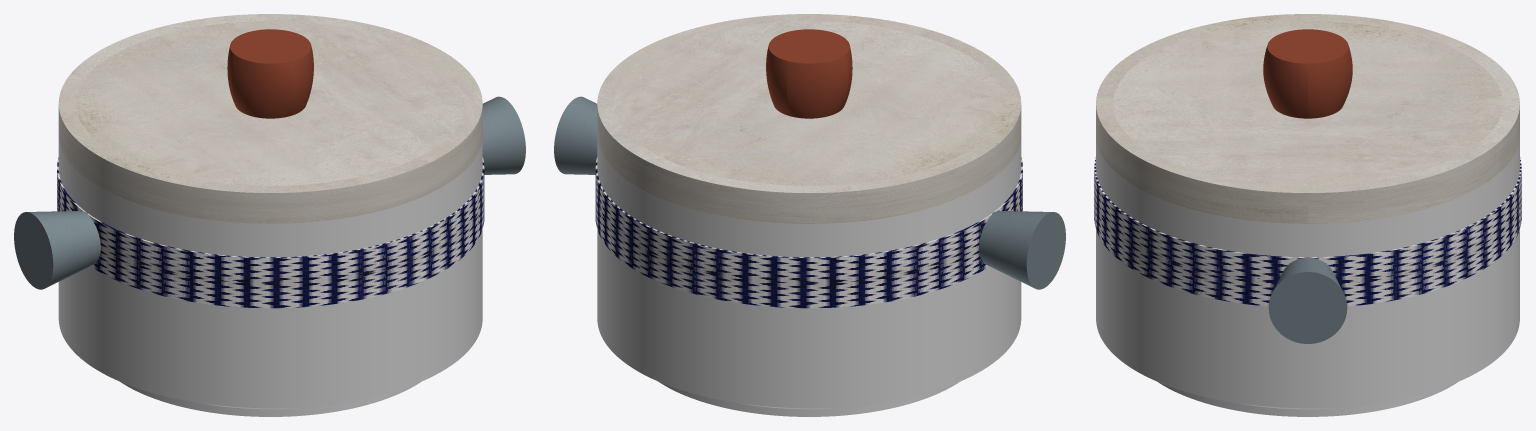
File: Pignata.fbx
3 views of the same model, side by side, from view 1: azimuth 30°, elevation 25°; view 2: azimuth 150°, elevation 25°; view 3: azimuth 270°, elevation 25° (orthographic).
Parts seen in each view (by area): view 1: Oggetto_5, Oggetto_24, Oggetto_3, Oggetto_21, Oggetto_23, Oggetto_28, Oggetto_8, Oggetto_7, Oggetto_10, Oggetto_26, Oggetto_19, Oggetto_27 (+1 smaller); view 2: Oggetto_5, Oggetto_24, Oggetto_3, Oggetto_21, Oggetto_23, Oggetto_30, Oggetto_8, Oggetto_7, Oggetto_10, Oggetto_26, Oggetto_19, Oggetto_29 (+1 smaller); view 3: Oggetto_5, Oggetto_24, Oggetto_3, Oggetto_21, Oggetto_23, Oggetto_9, Oggetto_27, Oggetto_29, Oggetto_26, Oggetto_19, Oggetto_4, Oggetto_7.
Boxes of the visible parts, left/top/right/bottom form: Oggetto_5: left=58, top=136, right=482, bottom=408; Oggetto_24: left=75, top=21, right=465, bottom=185; Oggetto_3: left=57, top=171, right=484, bottom=308; Oggetto_21: left=58, top=14, right=482, bottom=223; Oggetto_23: left=58, top=14, right=482, bottom=192; Oggetto_28: left=232, top=55, right=292, bottom=118; Oggetto_8: left=28, top=210, right=100, bottom=288; Oggetto_7: left=482, top=96, right=525, bottom=174; Oggetto_10: left=14, top=212, right=53, bottom=289; Oggetto_26: left=230, top=29, right=311, bottom=63; Oggetto_19: left=121, top=382, right=420, bottom=416; Oggetto_27: left=288, top=46, right=313, bottom=116; Oggetto_5: left=597, top=136, right=1021, bottom=408; Oggetto_24: left=614, top=21, right=1004, bottom=185; Oggetto_3: left=595, top=171, right=1022, bottom=308; Oggetto_21: left=597, top=14, right=1021, bottom=223; Oggetto_23: left=597, top=14, right=1021, bottom=192; Oggetto_30: left=787, top=55, right=847, bottom=118; Oggetto_8: left=979, top=210, right=1051, bottom=288; Oggetto_7: left=554, top=96, right=597, bottom=174; Oggetto_10: left=1026, top=212, right=1065, bottom=289; Oggetto_26: left=768, top=29, right=849, bottom=63; Oggetto_19: left=659, top=382, right=958, bottom=416; Oggetto_29: left=766, top=46, right=791, bottom=116; Oggetto_5: left=1096, top=137, right=1519, bottom=408; Oggetto_24: left=1113, top=21, right=1502, bottom=185; Oggetto_3: left=1094, top=170, right=1521, bottom=306; Oggetto_21: left=1096, top=14, right=1519, bottom=223; Oggetto_23: left=1096, top=14, right=1519, bottom=192; Oggetto_9: left=1268, top=272, right=1347, bottom=343; Oggetto_27: left=1263, top=47, right=1307, bottom=118; Oggetto_29: left=1308, top=47, right=1352, bottom=118; Oggetto_26: left=1267, top=29, right=1348, bottom=63; Oggetto_19: left=1158, top=382, right=1457, bottom=416; Oggetto_4: left=1094, top=157, right=1521, bottom=257; Oggetto_7: left=1273, top=257, right=1342, bottom=290.
Size of the model in its own units: 32.19 by 25.2 by 19.21.
5 materials, 4 textured.
